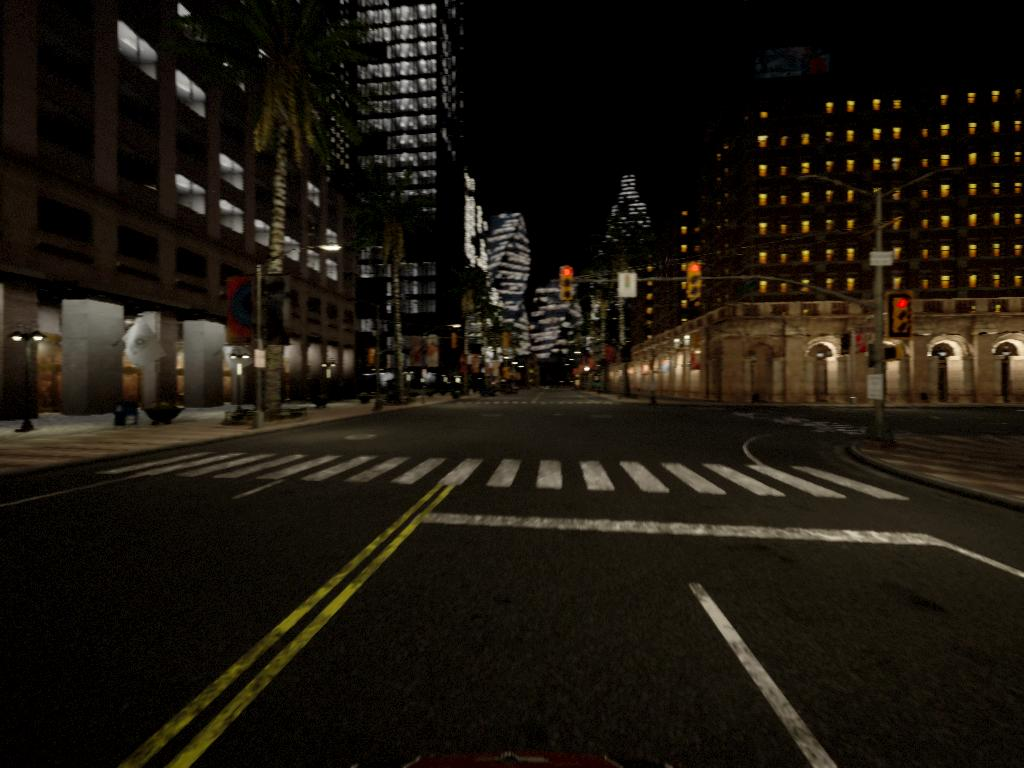traffic_light: (890, 291, 911, 343), (685, 262, 704, 301), (561, 266, 575, 301)
